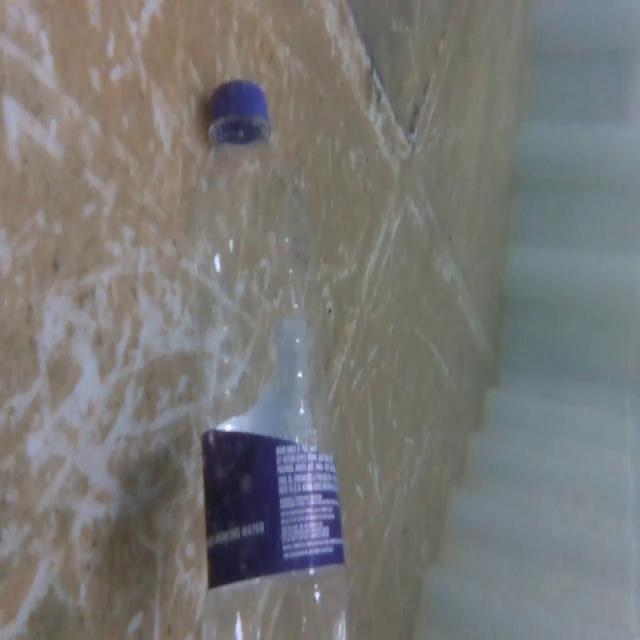plastic bottle: (179, 70, 356, 640)
